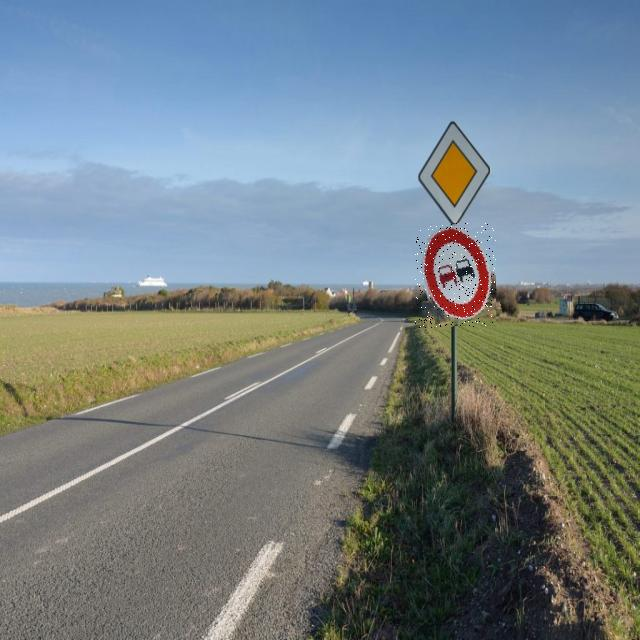no overtaking: (415, 223, 496, 328)
